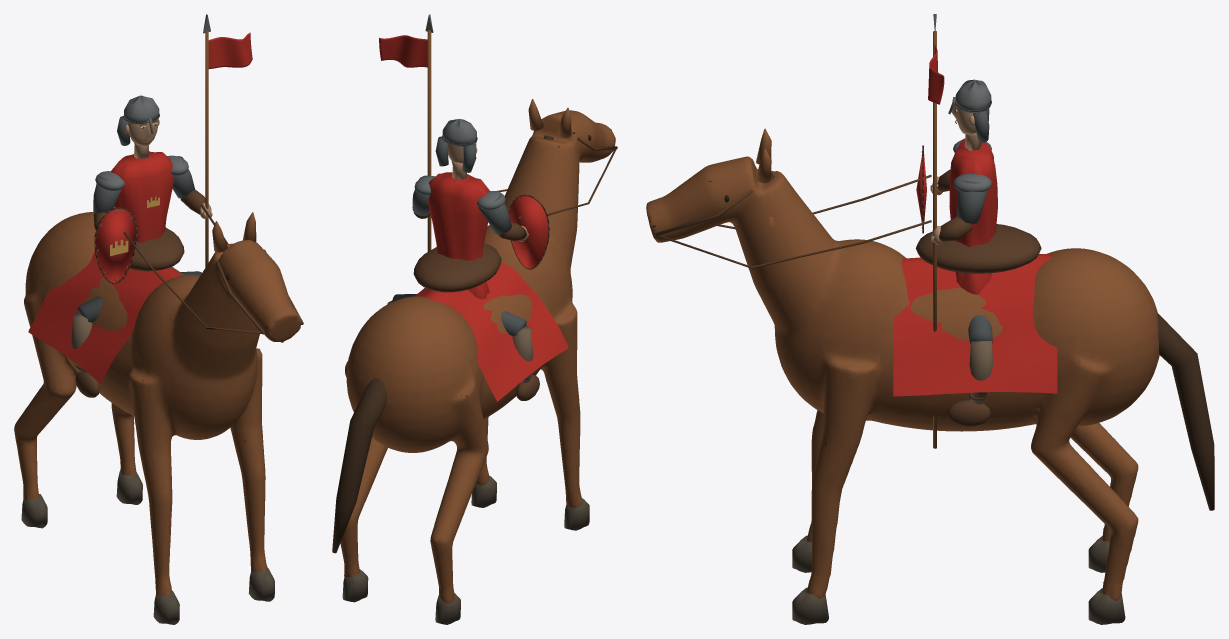
File: SM_CaballeroMontadoNatural_A_LOD0.fbx
3 views of the same model, side by side, from view 1: azimuth 30°, elevation 25°; view 2: azimuth 150°, elevation 25°; view 3: azimuth 270°, elevation 25° (orthographic). The views are drawn at different scales.
Visible parts, largest first — view 1: SM_CaballeroMontadoNatural_A_LOD0; view 2: SM_CaballeroMontadoNatural_A_LOD0; view 3: SM_CaballeroMontadoNatural_A_LOD0.
Part boxes in pixels (x1=…): SM_CaballeroMontadoNatural_A_LOD0: x1=14, y1=14, x2=303, y2=624; SM_CaballeroMontadoNatural_A_LOD0: x1=332, y1=14, x2=617, y2=624; SM_CaballeroMontadoNatural_A_LOD0: x1=646, y1=14, x2=1214, y2=624.
Size of the model in its own units: 0.1695 by 0.5101 by 0.4334.
Materials: 1 (1 with a texture image).
